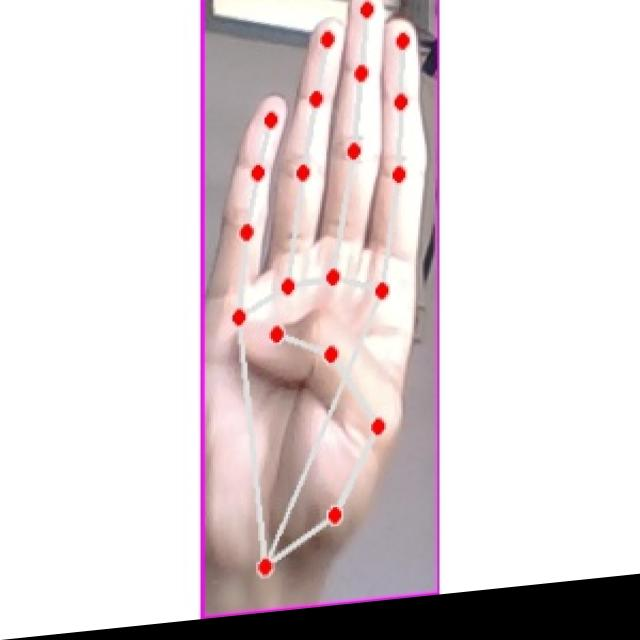B: (209, 0, 434, 590)
